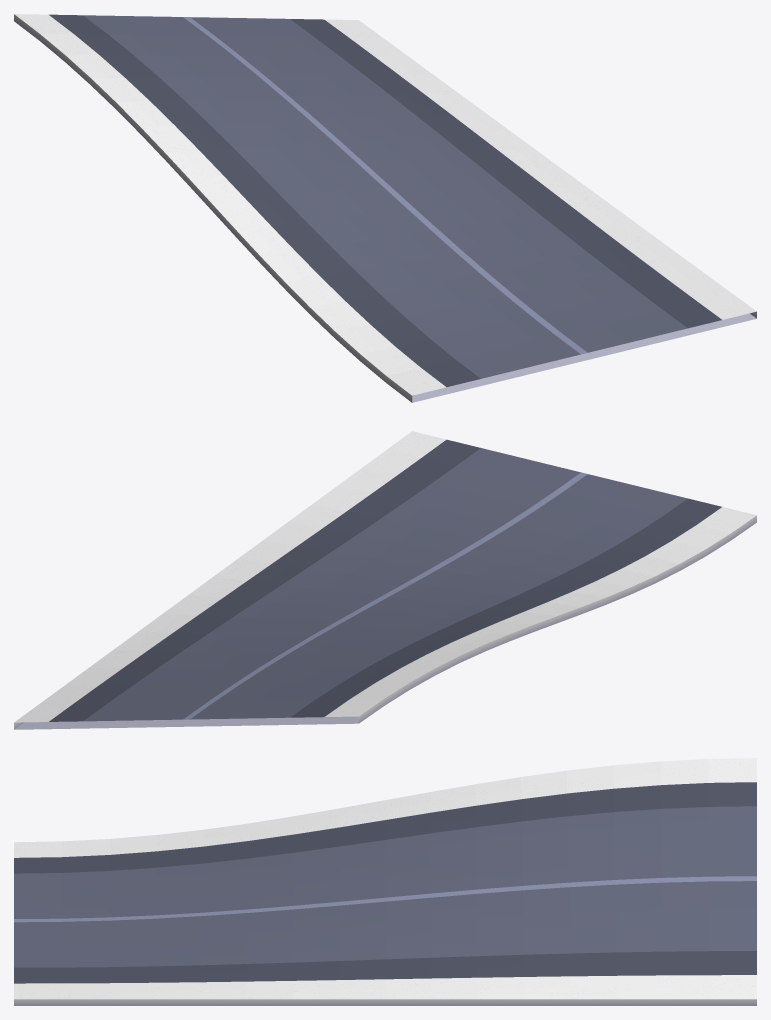
Rendered from road-Straight-Flat-HalfBankedRight-Even-Center-Size2.glb.
The picture shows the model from 3 angles, top to bottom: view 1: azimuth 30°, elevation 25°; view 2: azimuth 150°, elevation 25°; view 3: azimuth 270°, elevation 25°; orthographic projection. The views are drawn at different scales.
Visible parts, largest first — view 1: road-Straight-Flat-HalfBankedRight-Even-Center-Size2; view 2: road-Straight-Flat-HalfBankedRight-Even-Center-Size2; view 3: road-Straight-Flat-HalfBankedRight-Even-Center-Size2.
Part boxes in pixels (x1,y1,x2,y2): road-Straight-Flat-HalfBankedRight-Even-Center-Size2: (14,14,756,402); road-Straight-Flat-HalfBankedRight-Even-Center-Size2: (14,431,756,729); road-Straight-Flat-HalfBankedRight-Even-Center-Size2: (14,758,756,1005).
Bounding box in the file's own units: 1 × 0.27 × 2.
1 material, 1 textured.
